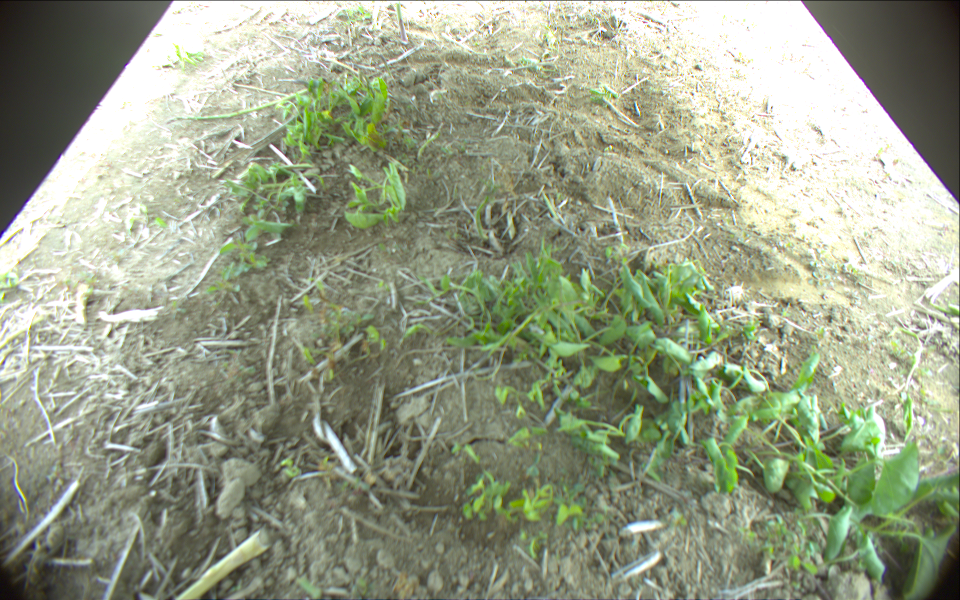aspa: (164, 79, 321, 124), (174, 530, 268, 600), (397, 1, 408, 41)
